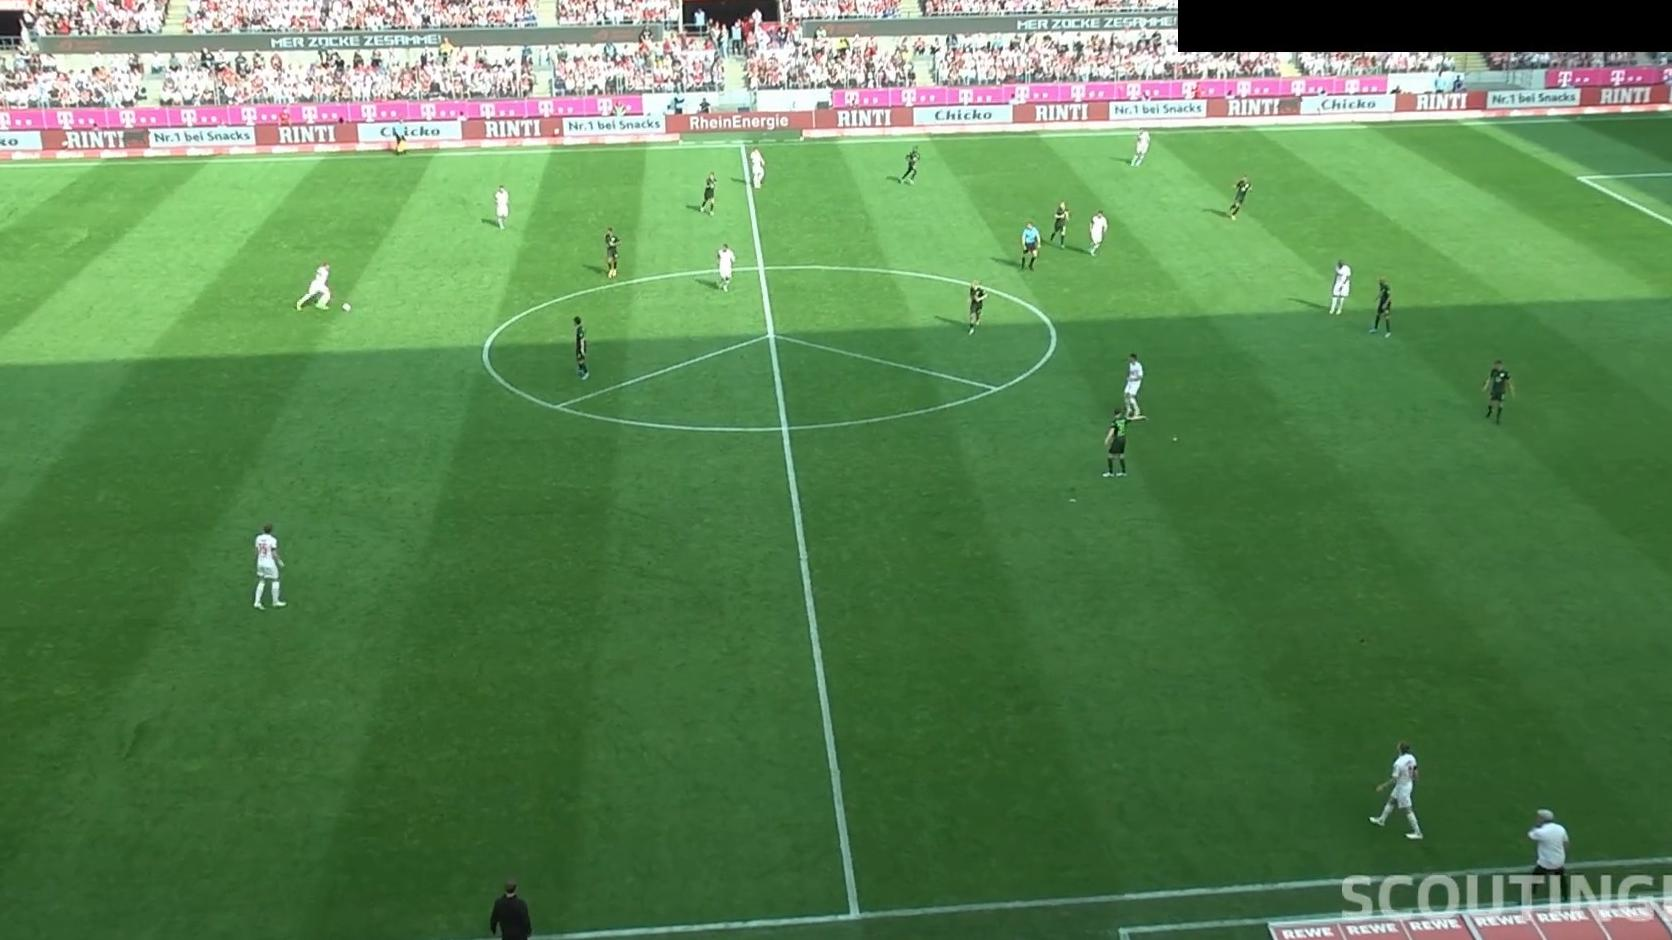ball: (341, 301, 353, 313)
